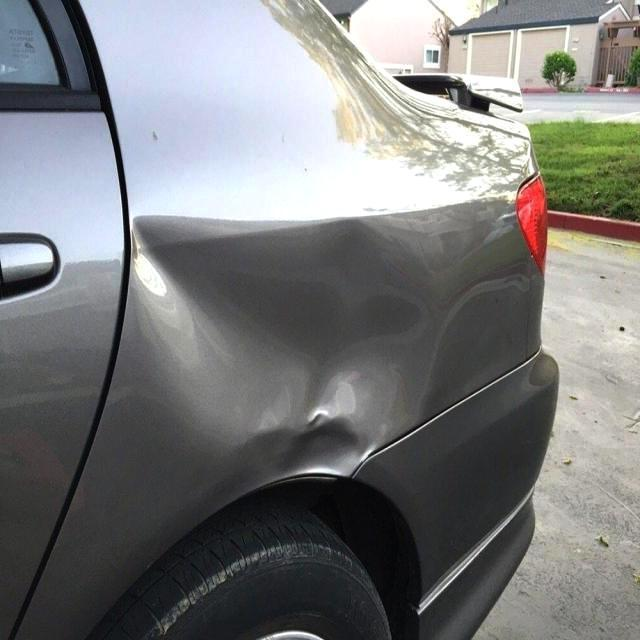minor: (120, 193, 449, 510)
